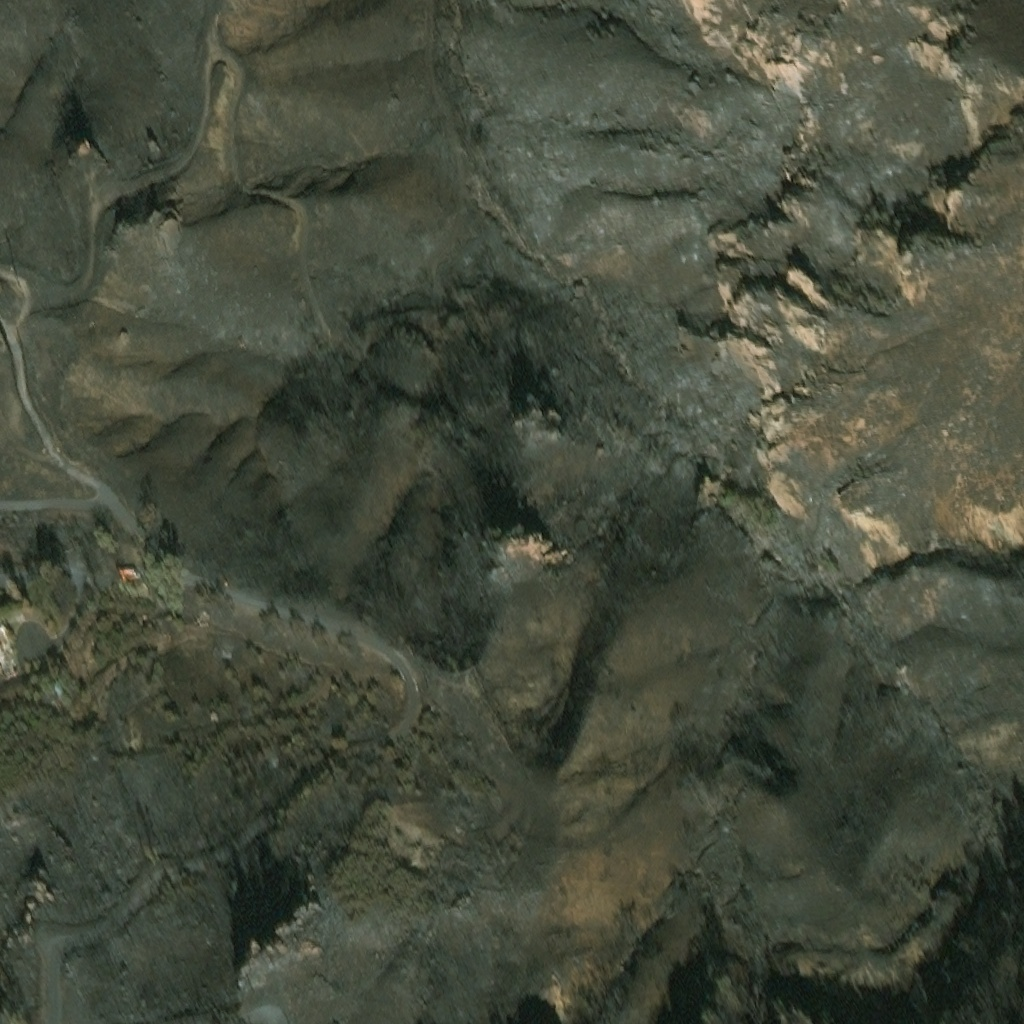3 destroyed: (0, 614, 13, 659)
